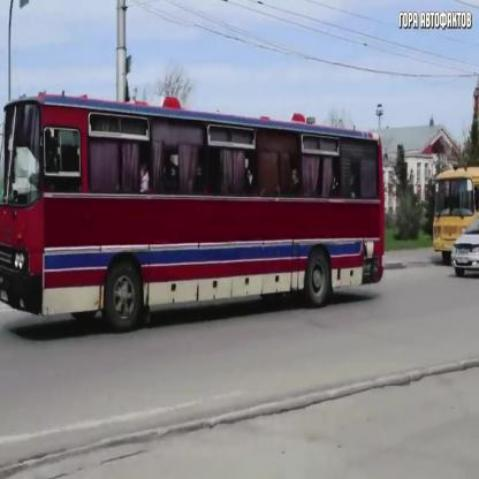bus: (8, 84, 391, 339), (431, 163, 479, 266)
car: (445, 217, 479, 291)
